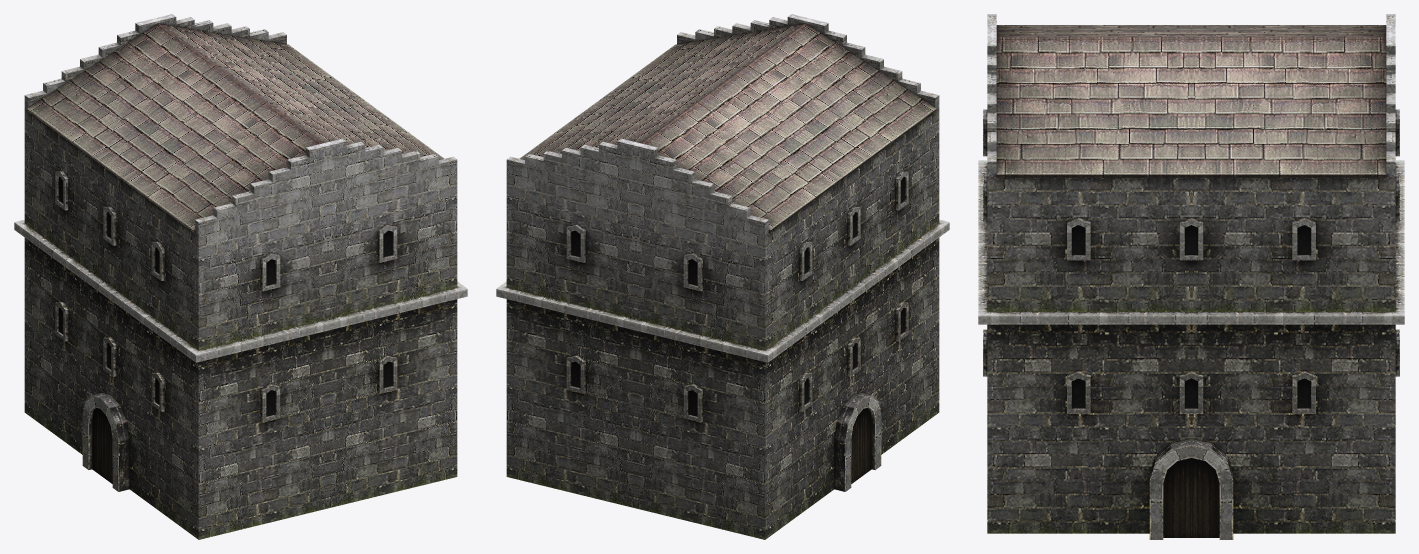
The model's file is CastleHouse02.FBX.
3 views of the same model, side by side, from view 1: azimuth 30°, elevation 25°; view 2: azimuth 150°, elevation 25°; view 3: azimuth 270°, elevation 25° (orthographic). The views are drawn at different scales.
Visible parts, largest first — view 1: CastleHouse02; view 2: CastleHouse02; view 3: CastleHouse02.
Part boxes in pixels (bbox=[...]): CastleHouse02: bbox=[14, 14, 467, 539]; CastleHouse02: bbox=[496, 14, 949, 539]; CastleHouse02: bbox=[978, 14, 1404, 539].
Size of the model in its own units: 1164 by 1436 by 1306.
